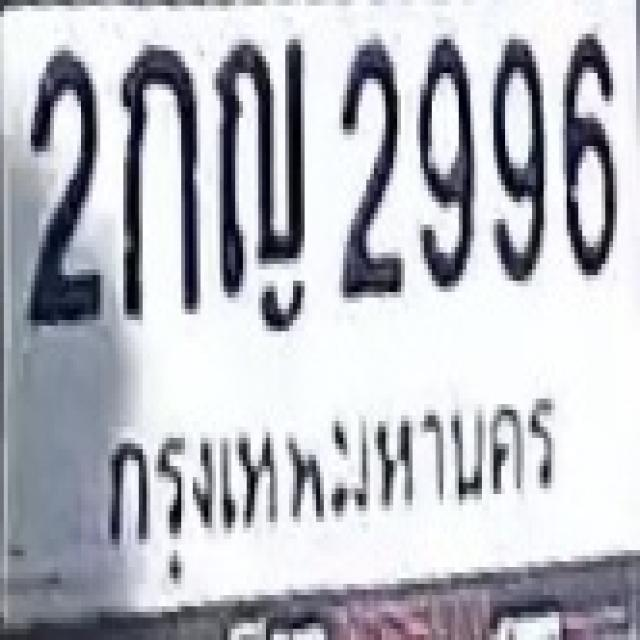-: (212, 34, 305, 298), (118, 42, 198, 317)
2: (27, 45, 100, 326), (335, 34, 401, 298)
6: (559, 31, 613, 278)
9: (415, 34, 476, 286), (489, 34, 544, 280)
BKK: (78, 370, 578, 584)
